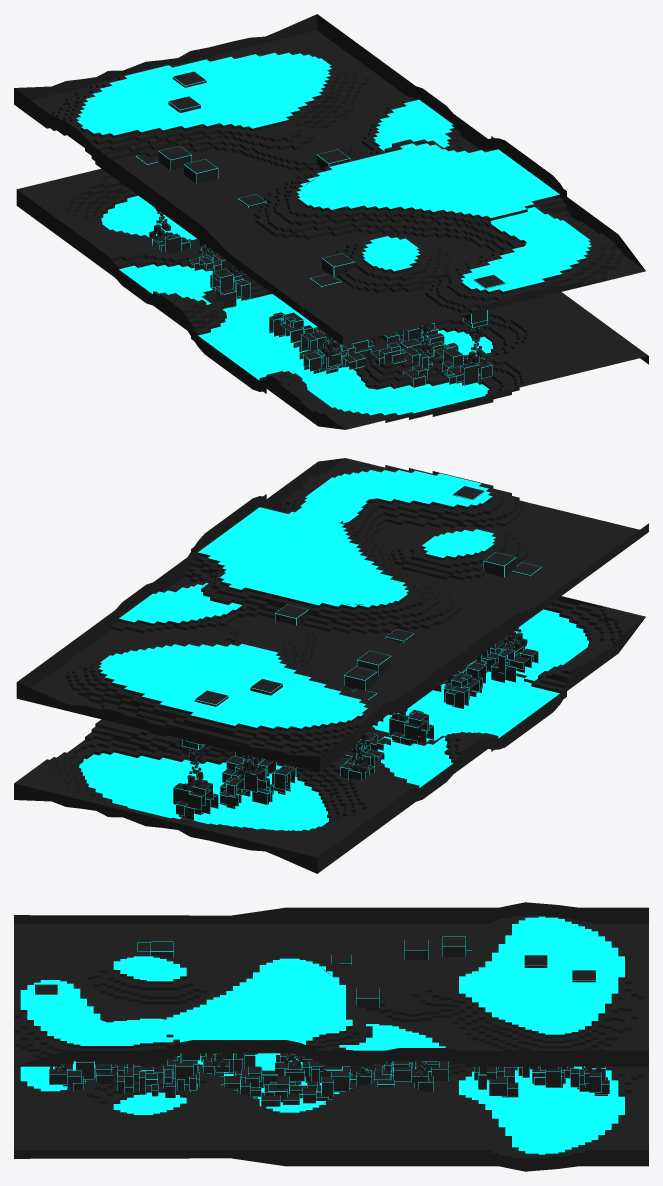
The model's file is Decor Lvl12.fbx.
The picture shows the model from 3 angles, top to bottom: view 1: azimuth 30°, elevation 25°; view 2: azimuth 150°, elevation 25°; view 3: azimuth 270°, elevation 25°; orthographic projection. The views are drawn at different scales.
Parts seen in each view (by area): view 1: Plane; view 2: Plane; view 3: Plane.
Part boxes in pixels (<box>): Plane: <box>14,14,648,429</box>; Plane: <box>14,458,648,873</box>; Plane: <box>14,902,648,1171</box>.
Bounding box in the file's own units: 39208 × 17327 × 72942.
